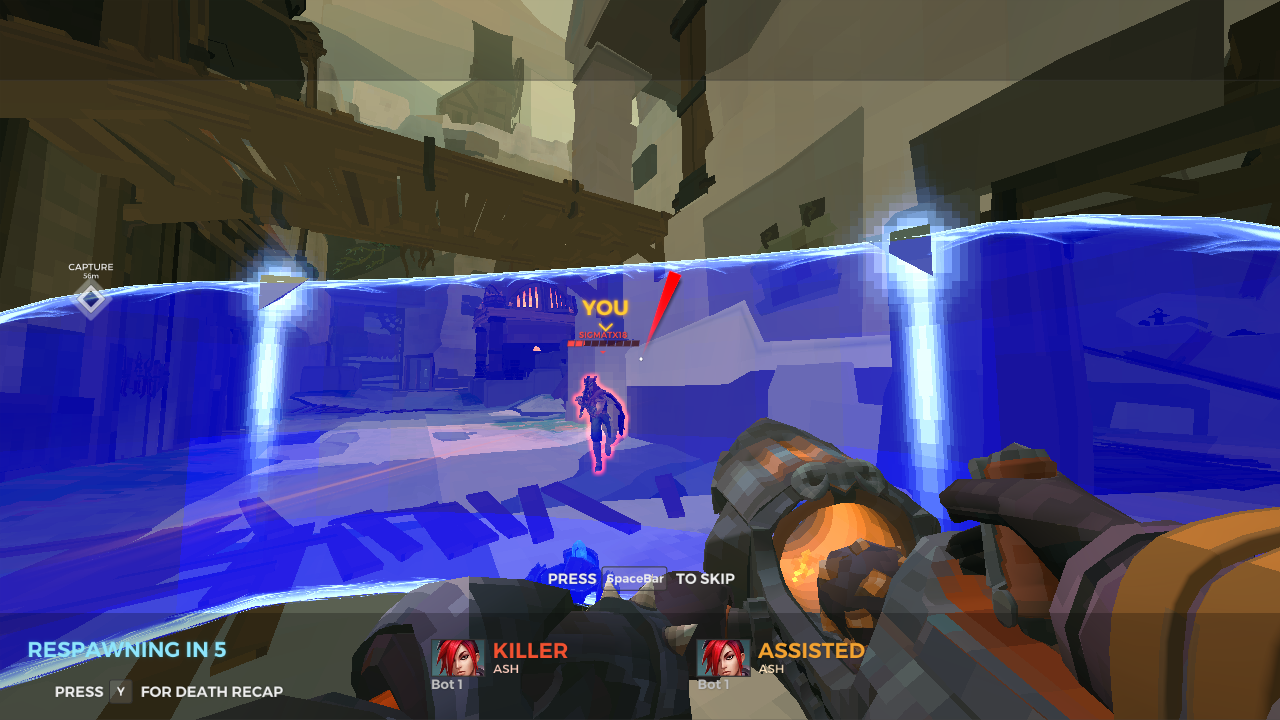model: (568, 361, 632, 475)
